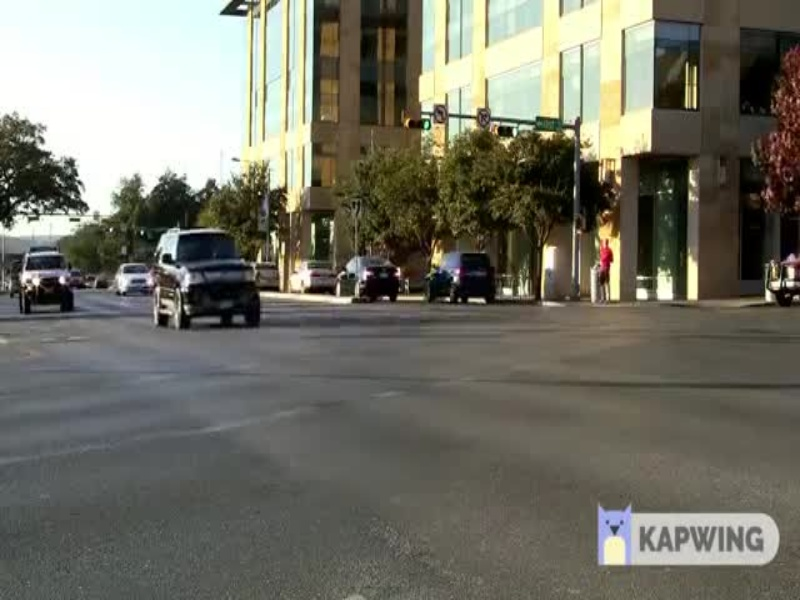car: (140, 225, 270, 339), (414, 245, 512, 304), (10, 252, 82, 321), (330, 250, 407, 307)
